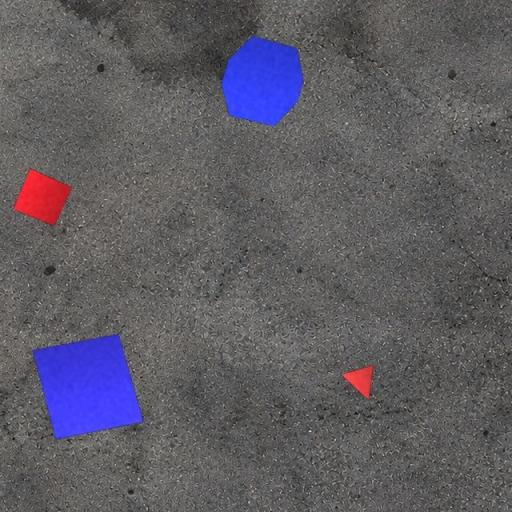BLUE_SQUARE: (32, 333, 145, 440)
RED_SQUARE: (12, 168, 72, 226)
